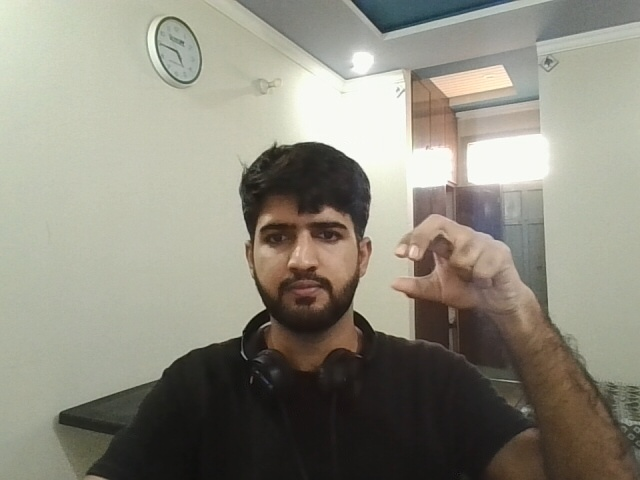No: (382, 197, 528, 335)
